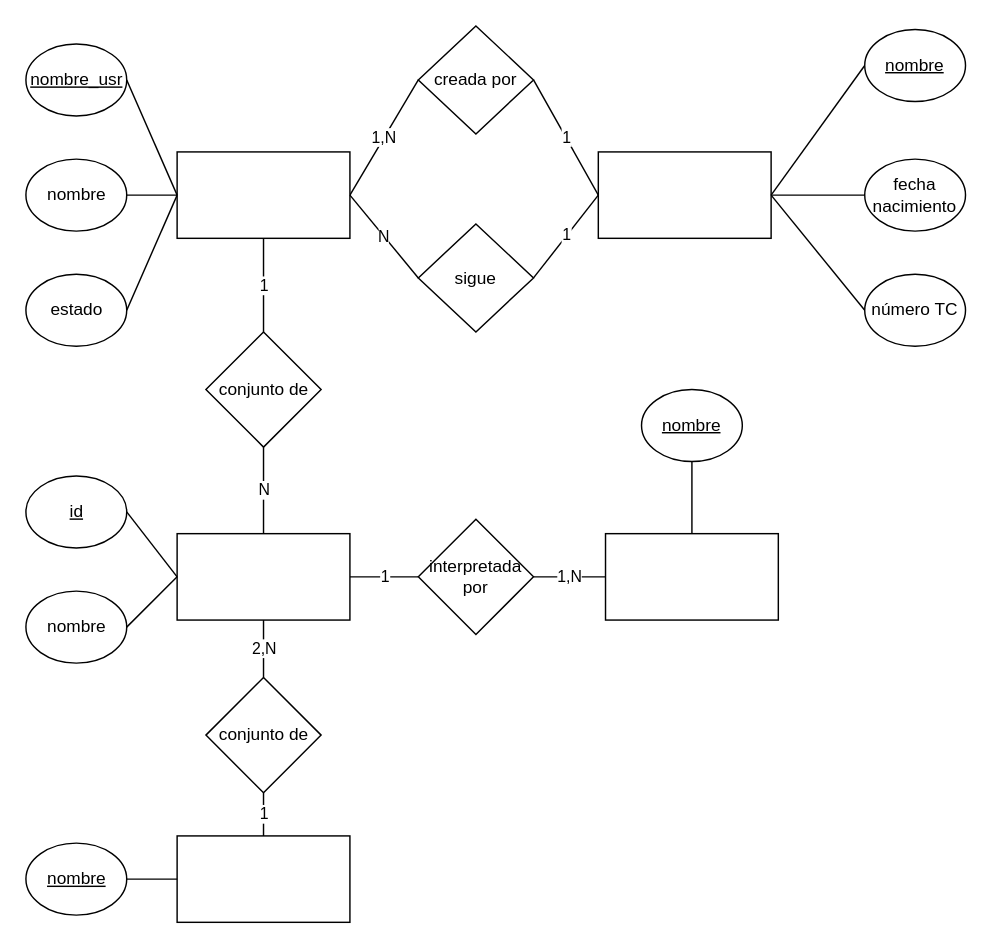
Image size: 991x948. Some labels were removed from this diagram. The centre of each missing label's shape, as x and y in pixels:
"canción" belongs at point 263,576.
"disco" belongs at point 263,878.
"lista de reproducción" belongs at point 263,194.
"músico" belongs at point 691,576.
"usuario" belongs at point 684,194.
